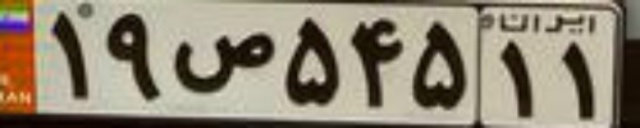1: (49, 11, 88, 97), (557, 40, 596, 119), (495, 38, 533, 118)
4: (347, 18, 402, 108)
5: (281, 17, 341, 106), (411, 20, 466, 109)
9: (102, 12, 161, 98)
saat: (169, 30, 274, 93)
